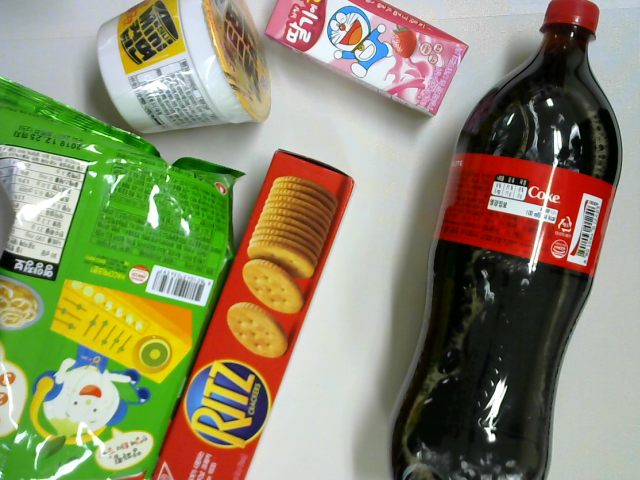Coca_Cola_1.5L: (380, 1, 625, 480)
Hejangmini: (95, 1, 275, 139)
Oninon_Ring: (1, 80, 247, 479)
Ritz_Cracker: (143, 144, 362, 480)
Strawberry_E_Mong: (261, 1, 473, 119)
